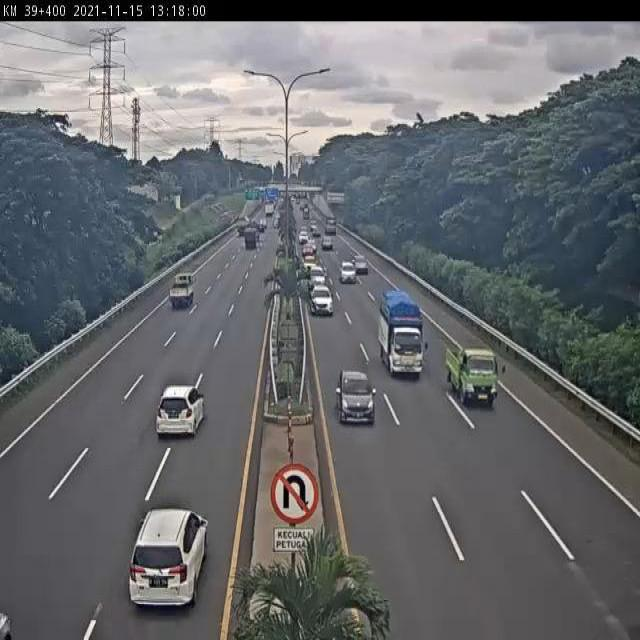car: (129, 508, 212, 608), (153, 383, 208, 440), (335, 365, 377, 427), (307, 280, 334, 319), (306, 265, 327, 287)
truck-m-: (377, 289, 427, 382)
truck-s-: (443, 332, 503, 411), (167, 272, 198, 309)
